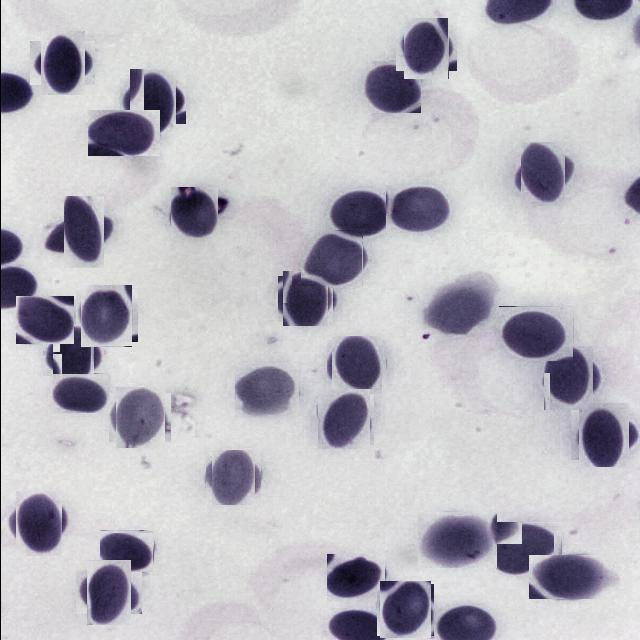red blood cell: (417, 512, 496, 568), (498, 306, 573, 361), (489, 522, 561, 576), (234, 362, 299, 418), (300, 230, 362, 286), (87, 110, 159, 156), (385, 185, 454, 233), (574, 406, 631, 464), (528, 555, 602, 599), (54, 203, 111, 260), (314, 390, 370, 448), (540, 350, 596, 407), (77, 288, 134, 344), (124, 73, 180, 129), (10, 495, 66, 551), (360, 61, 420, 113), (80, 564, 135, 620), (377, 582, 432, 638), (514, 148, 570, 202), (34, 36, 89, 90), (328, 338, 383, 392), (112, 390, 166, 445), (424, 290, 488, 336), (399, 21, 452, 76), (326, 554, 384, 602), (15, 296, 73, 344), (47, 329, 98, 381), (333, 189, 388, 235), (280, 274, 330, 324), (168, 188, 218, 238), (208, 453, 258, 502), (50, 374, 110, 414), (99, 530, 153, 572)
